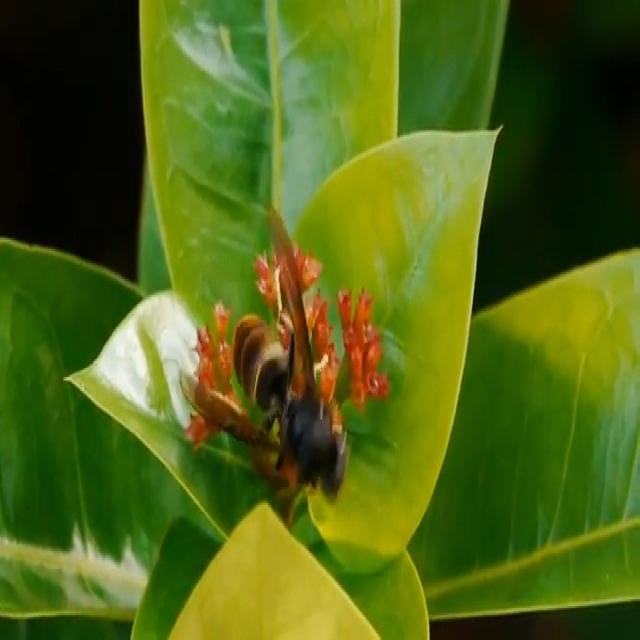Hornets: (180, 201, 348, 509)
